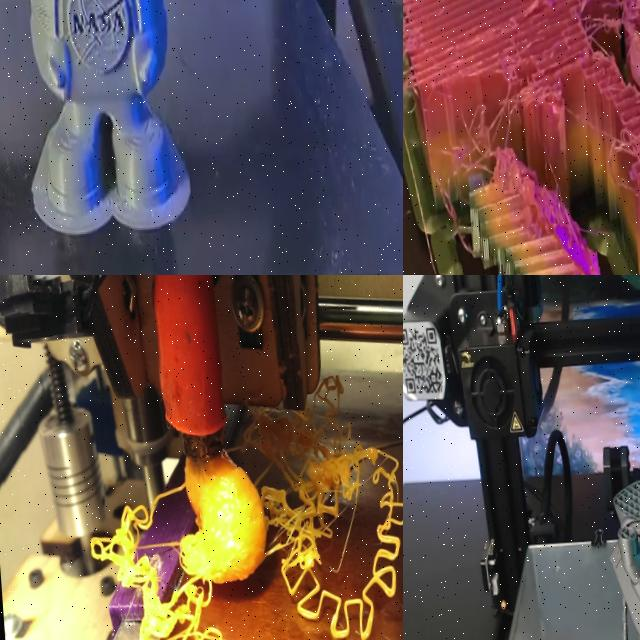spaghetti: (88, 411, 403, 640), (426, 96, 530, 240), (600, 103, 640, 195), (579, 0, 640, 56)
